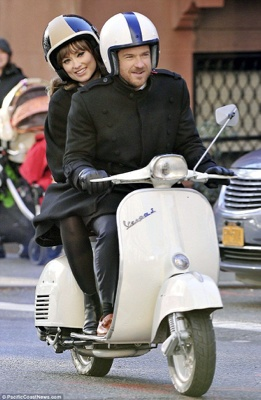helmet: (97, 9, 162, 91), (36, 11, 104, 88)
